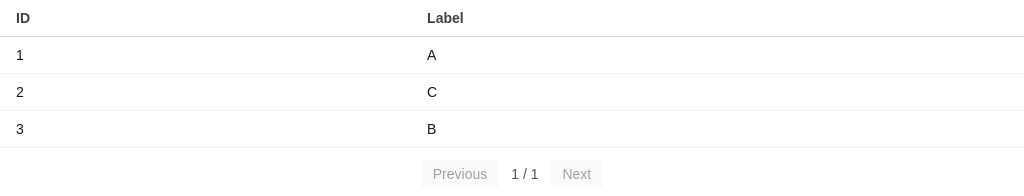
DataTable › sorting › sorts descending on second click
This screenshot has width=1024, height=196.
Click the column heading "Label" at (445, 18), box [411,0,1023,36]
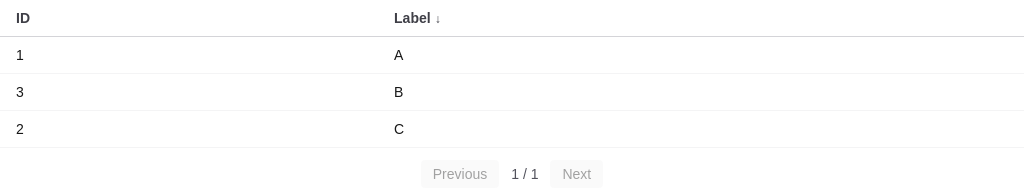
Click the column heading "Label↓" at (412, 18), box [378,0,1023,36]
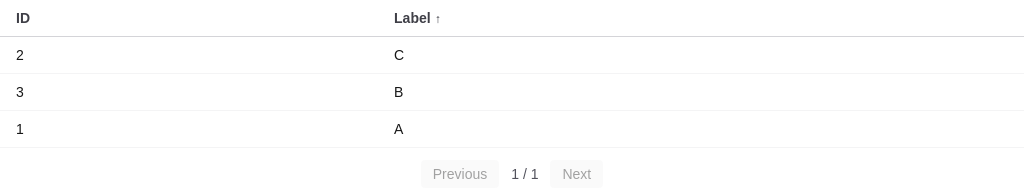
Expected: the cell "C" is shown, [378,36,1023,74]
Expected: the column heading "Label↑" is shown, [378,0,1023,36]
